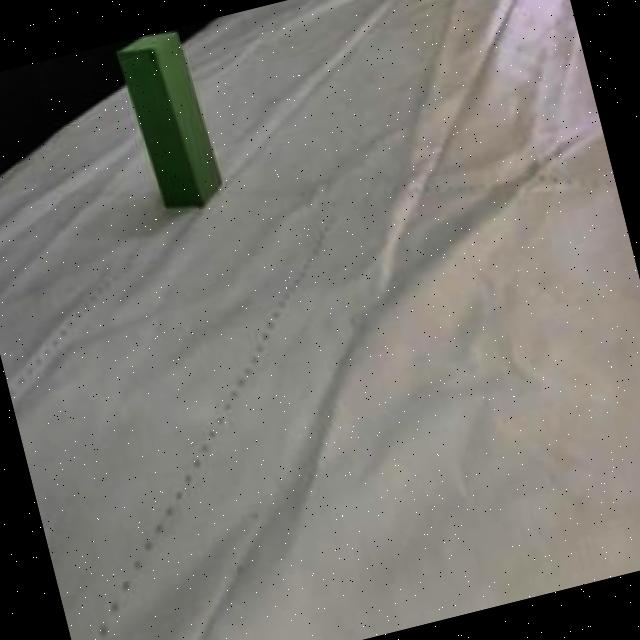greenbox: (111, 26, 222, 212)
